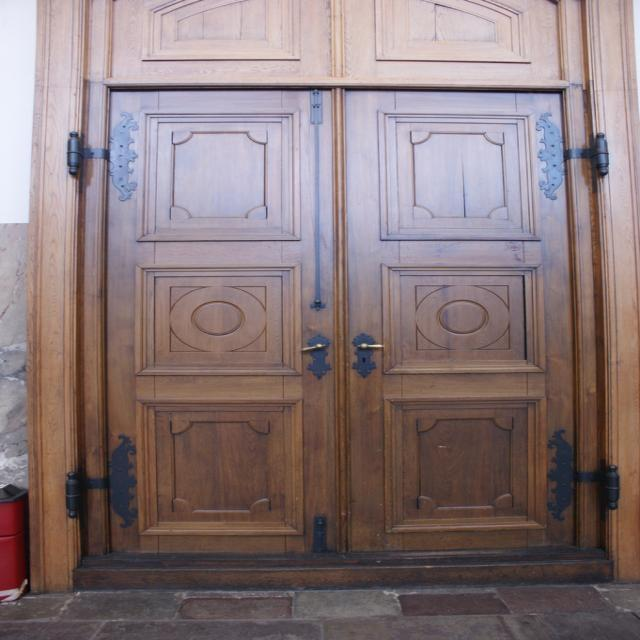door: (31, 0, 616, 583)
